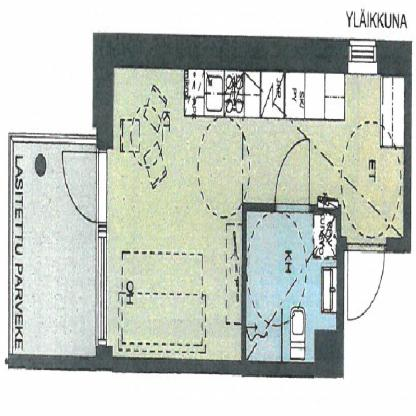door: (270, 127, 313, 212), (346, 240, 388, 327), (59, 154, 107, 229)
window: (96, 231, 107, 344), (350, 45, 377, 65)
zone: (116, 60, 240, 361), (244, 70, 404, 239), (14, 140, 97, 356), (248, 212, 338, 363)
